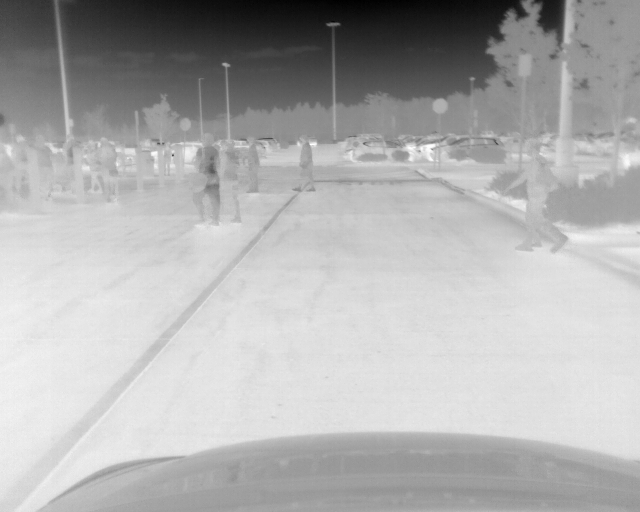car: (429, 137, 505, 160), (353, 139, 417, 163), (550, 134, 611, 155), (149, 142, 203, 164)
people: (500, 145, 568, 254), (185, 136, 218, 227), (218, 143, 241, 224), (95, 138, 120, 202), (34, 135, 57, 200), (14, 136, 35, 198), (293, 135, 314, 192), (63, 133, 81, 196), (84, 141, 101, 195), (1, 140, 15, 205), (245, 136, 260, 194), (162, 141, 171, 175)
